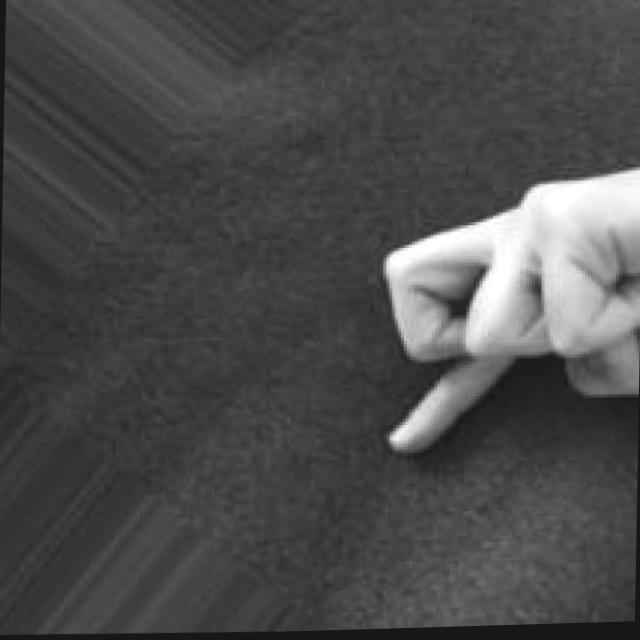P: (376, 131, 640, 470)
